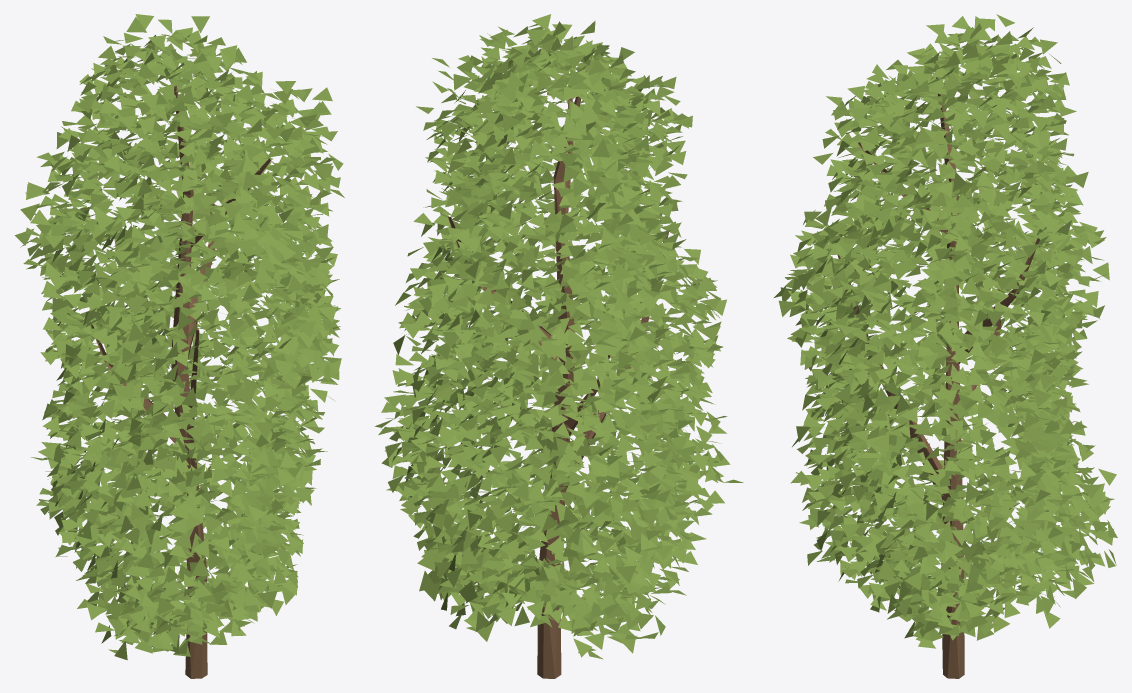
The model's file is tree-poplar-1-0.glb.
3 renders of one model, left to right at view 1: azimuth 30°, elevation 25°; view 2: azimuth 150°, elevation 25°; view 3: azimuth 270°, elevation 25°, orthographic. The views are drawn at different scales.
Visible parts, largest first — view 1: tree/poplar@1/0; view 2: tree/poplar@1/0; view 3: tree/poplar@1/0.
Boxes of the visible parts, <box> form: tree/poplar@1/0: <box>14,14,344,678</box>; tree/poplar@1/0: <box>374,14,743,678</box>; tree/poplar@1/0: <box>774,14,1117,678</box>.
Size of the model in its own units: 2949 by 6279 by 3057.
